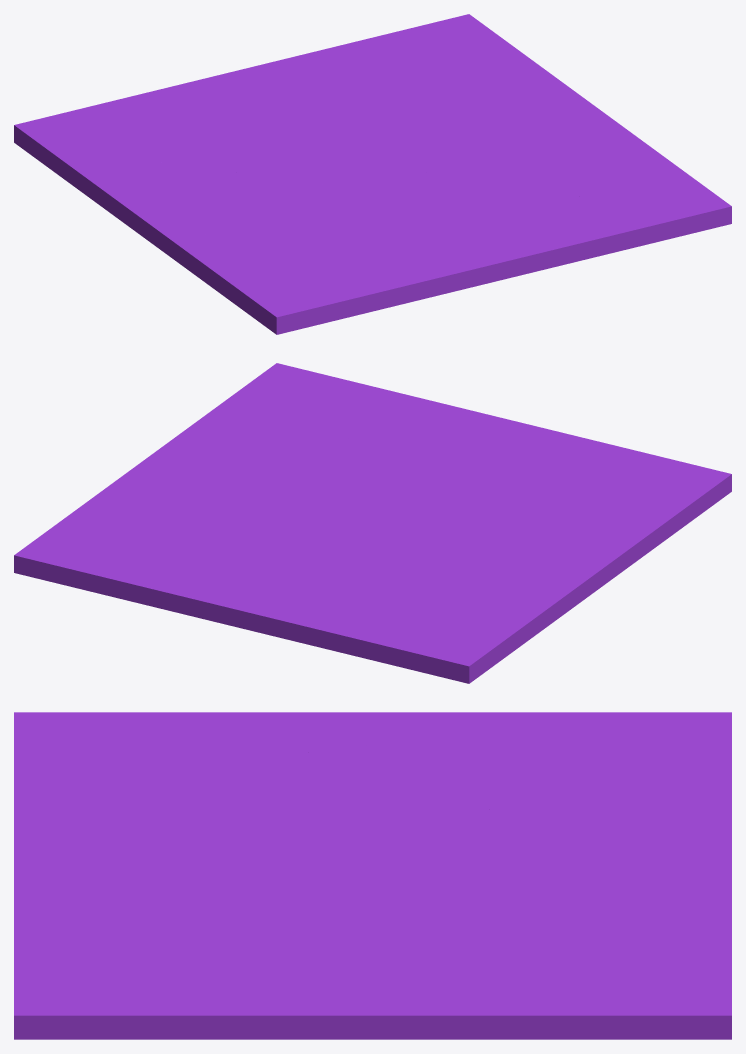
File: Platform_4_chunks.fbx
The picture shows the model from 3 angles, top to bottom: view 1: azimuth 30°, elevation 25°; view 2: azimuth 150°, elevation 25°; view 3: azimuth 270°, elevation 25°; orthographic projection. The views are drawn at different scales.
Parts seen in each view (by area): view 1: Platform_4_0, Platform_4_3, Platform_4_1, Platform_4_9, Platform_4_6, Platform_4_7, Platform_4_11, Platform_4_12, Platform_4_4, Platform_4_10, Platform_4_8; view 2: Platform_4_0, Platform_4_1, Platform_4_9, Platform_4_3, Platform_4_6, Platform_4_7, Platform_4_12, Platform_4_11, Platform_4_10, Platform_4_4, Platform_4_8; view 3: Platform_4_0, Platform_4_1, Platform_4_3, Platform_4_6, Platform_4_7, Platform_4_9, Platform_4_12, Platform_4_11, Platform_4_4, Platform_4_10, Platform_4_8.
Boxes of the visible parts, box(x1,y1,x2,y2) form: Platform_4_0: box(244, 14, 520, 167); Platform_4_3: box(377, 182, 675, 303); Platform_4_1: box(178, 207, 406, 334); Platform_4_9: box(14, 81, 228, 206); Platform_4_6: box(411, 52, 614, 159); Platform_4_7: box(538, 120, 731, 240); Platform_4_11: box(88, 147, 252, 241); Platform_4_12: box(195, 69, 358, 164); Platform_4_4: box(270, 166, 474, 226); Platform_4_10: box(149, 156, 362, 265); Platform_4_8: box(394, 154, 586, 203); Platform_4_0: box(14, 506, 381, 622); Platform_4_1: box(496, 442, 731, 559); Platform_4_9: box(280, 577, 557, 683); Platform_4_3: box(333, 377, 601, 482); Platform_4_6: box(67, 449, 323, 516); Platform_4_7: box(160, 363, 342, 457); Platform_4_12: box(220, 521, 413, 637); Platform_4_11: box(407, 553, 623, 618); Platform_4_10: box(377, 517, 638, 584); Platform_4_4: box(355, 469, 509, 531); Platform_4_8: box(278, 417, 364, 507); Platform_4_0: box(356, 857, 731, 1039); Platform_4_1: box(14, 712, 327, 824); Platform_4_3: box(14, 798, 257, 977); Platform_4_6: box(277, 893, 654, 1039); Platform_4_7: box(14, 945, 344, 1039); Platform_4_9: box(523, 712, 731, 832); Platform_4_12: box(387, 804, 731, 865); Platform_4_11: box(308, 712, 530, 810); Platform_4_4: box(200, 784, 374, 903); Platform_4_10: box(282, 712, 479, 857); Platform_4_8: box(122, 874, 377, 950).
Size of the model in its own units: 810 by 29.87 by 810.
